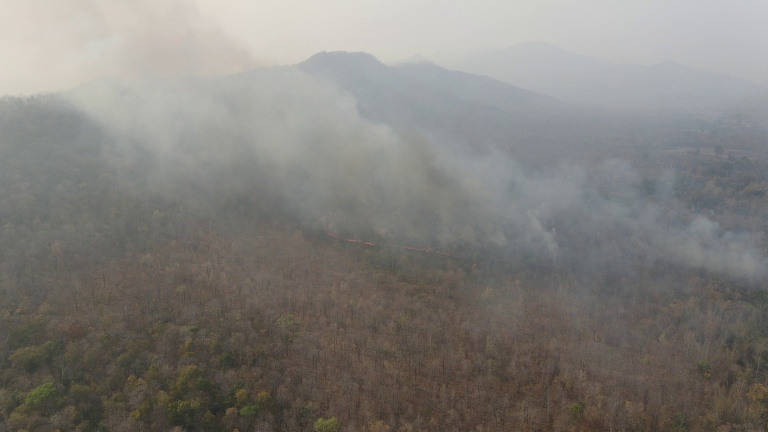fire: (321, 228, 375, 252), (400, 242, 458, 258)
smoke: (73, 3, 546, 232), (473, 148, 768, 289)
